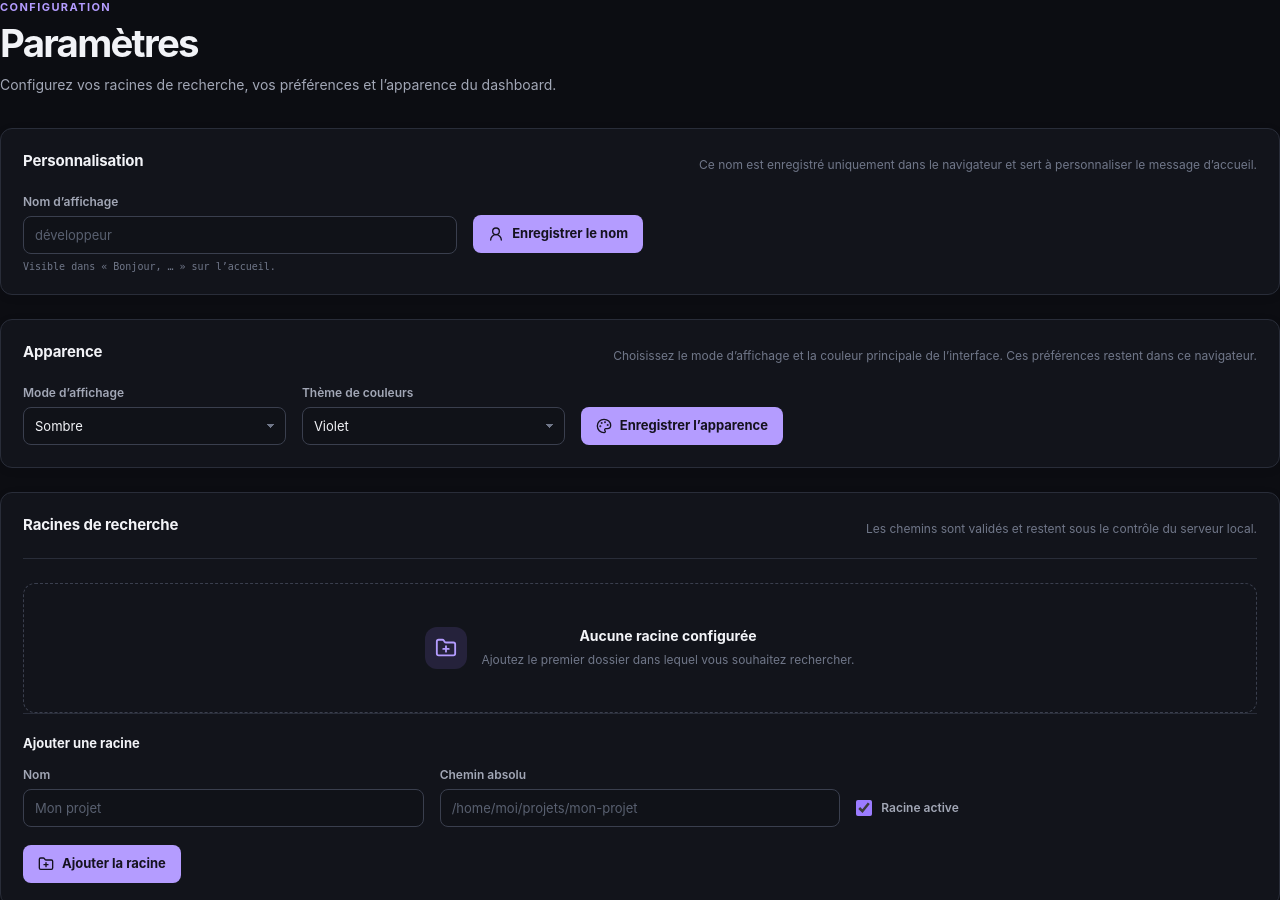
Test: SettingsPage › affiche immédiatement une racine créée après la confirmation serveur
Expected: the heading "Aucune racine configurée" is shown, [579,627,757,644]
Type "Projet" into the field with placeholder "Mon projet".
click(223, 808); type("Projet")  # box [23,789,424,827]
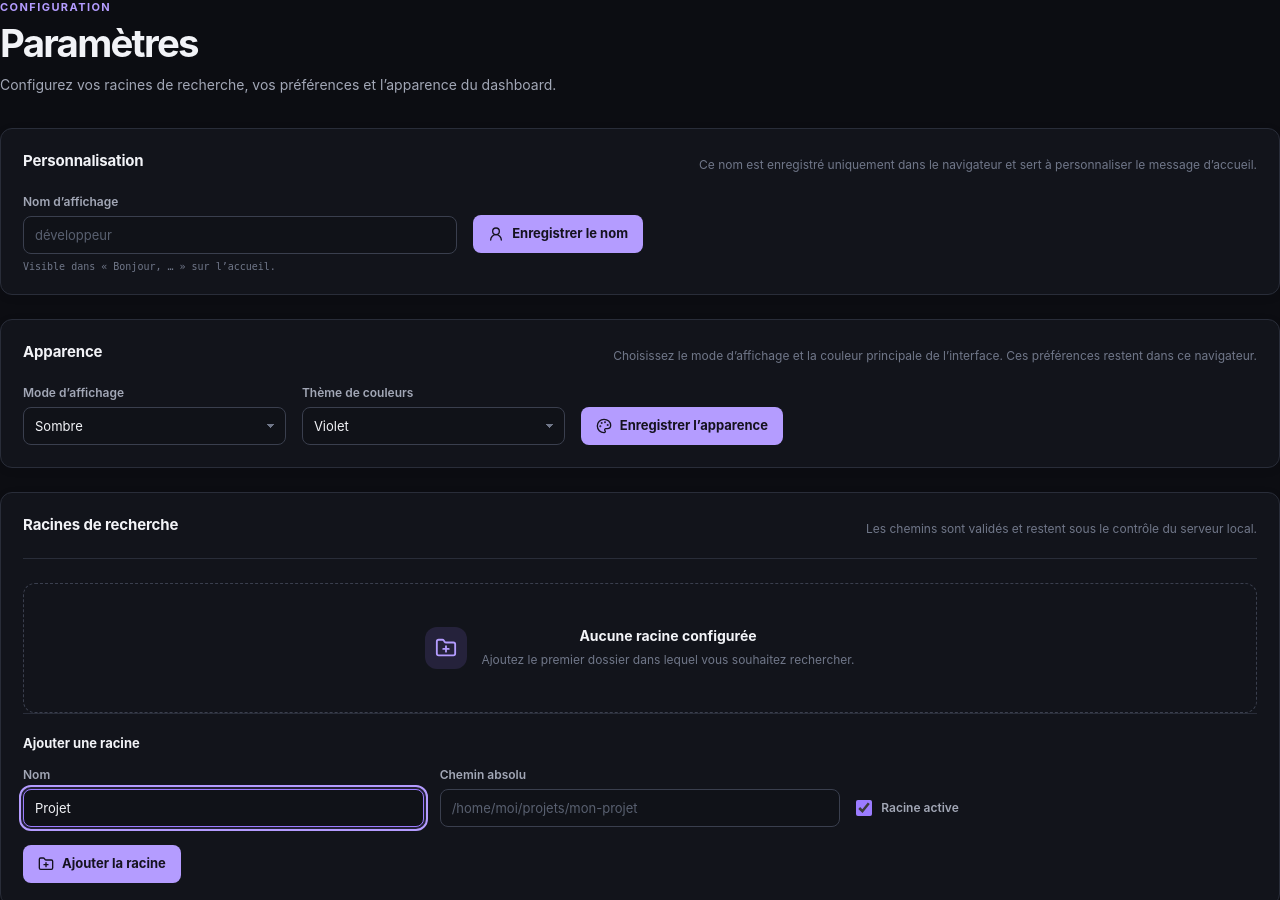
Type "/tmp/projet" into the field with placeholder "/home/moi/projets/mon-projet".
click(640, 808); type("/tmp/projet")  # box [440,789,840,827]
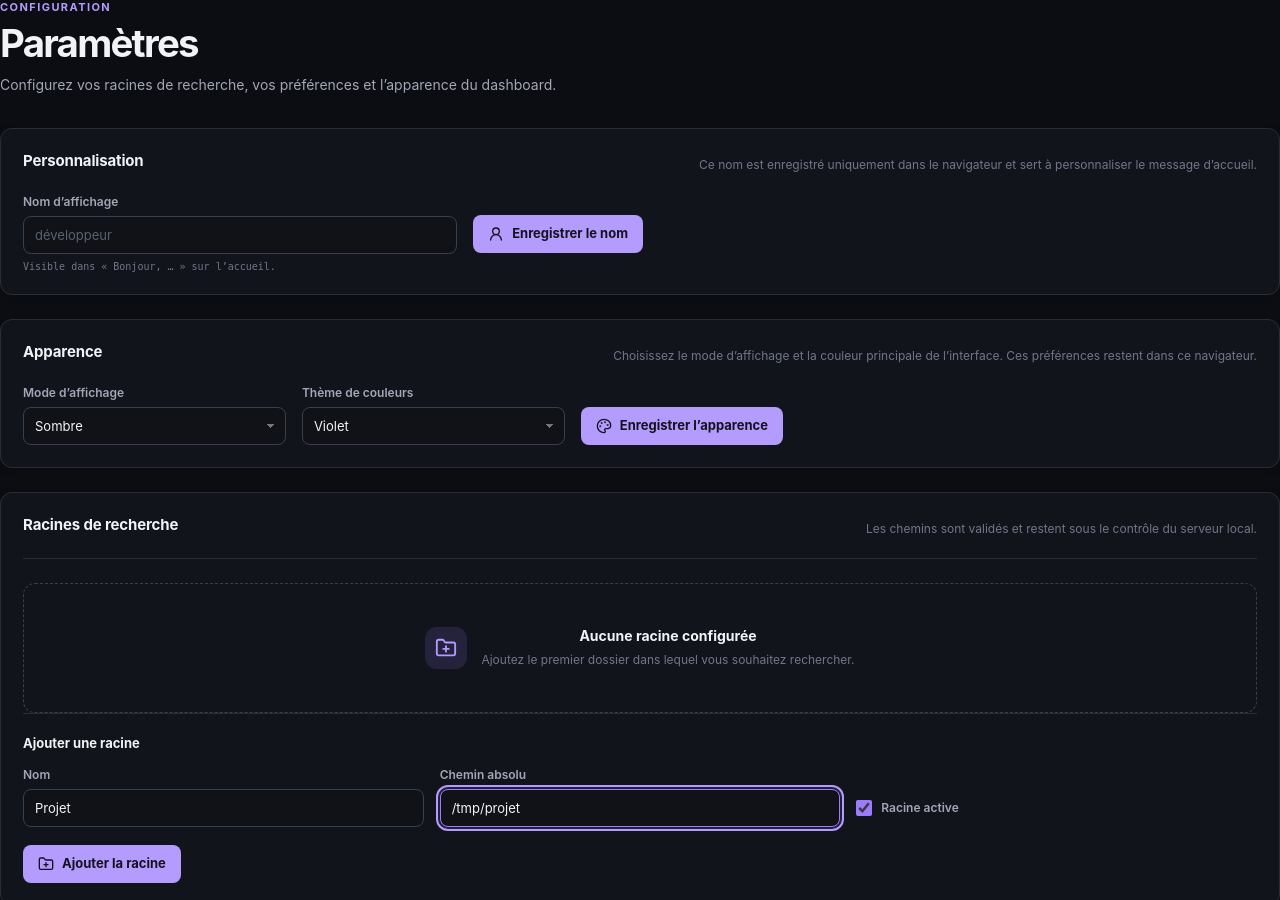
Click the button "Ajouter la racine".
click(102, 864)  # box [23,845,181,883]
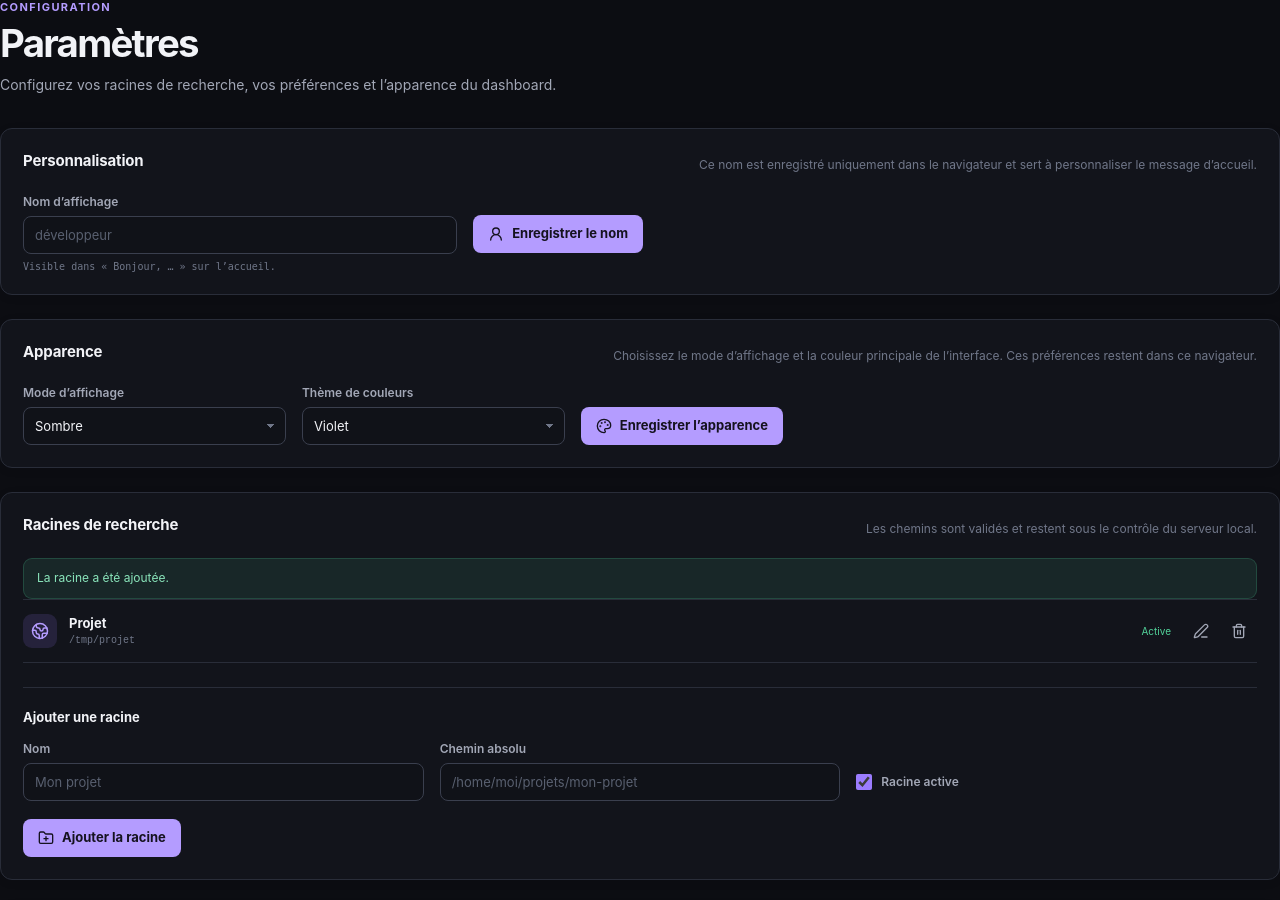
Now the text "Projet" is shown, box [69,615,106,631]
